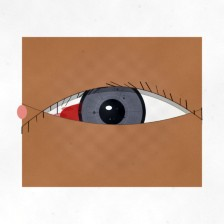hemorrhage_spot: (49, 85, 127, 146)
